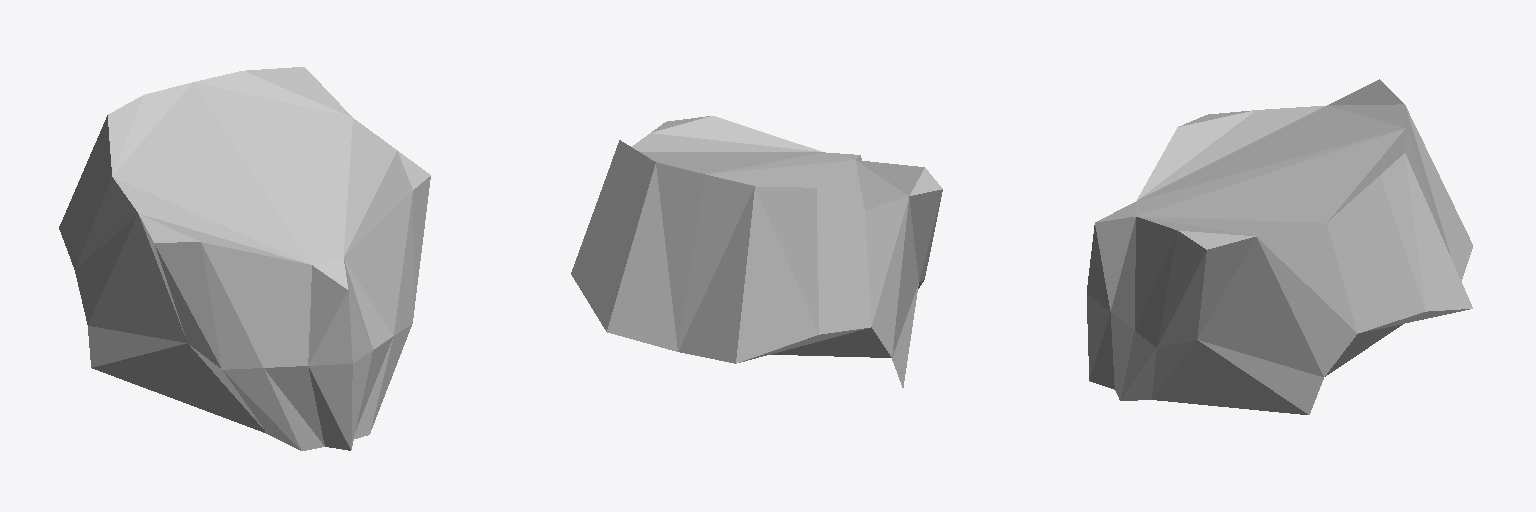
Rendered from neck.obj.
3 renders of one model, left to right at view 1: azimuth 30°, elevation 25°; view 2: azimuth 150°, elevation 25°; view 3: azimuth 270°, elevation 25°, orthographic.
Parts seen in each view (by area): view 1: cube1_cut18; view 2: cube1_cut18; view 3: cube1_cut18.
Part boxes in pixels (bbox=[...]): cube1_cut18: bbox=[59, 67, 430, 450]; cube1_cut18: bbox=[571, 116, 942, 387]; cube1_cut18: bbox=[1087, 79, 1472, 414].
Size of the model in its own units: 0.628 by 0.515 by 0.7013.